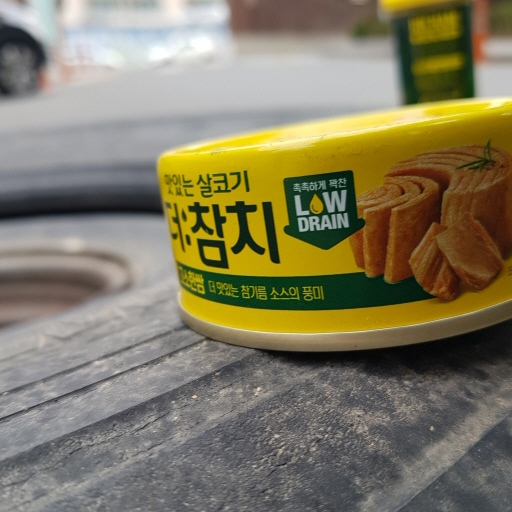Metal_1: (156, 99, 512, 352)
